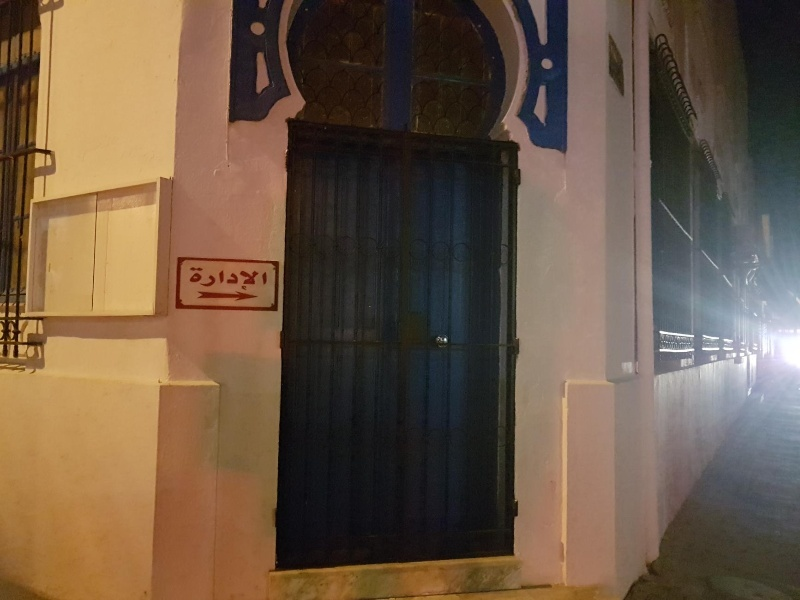text: (193, 267, 208, 293), (209, 267, 224, 293), (225, 267, 240, 293), (241, 267, 256, 293), (257, 267, 269, 293), (191, 267, 192, 293)
